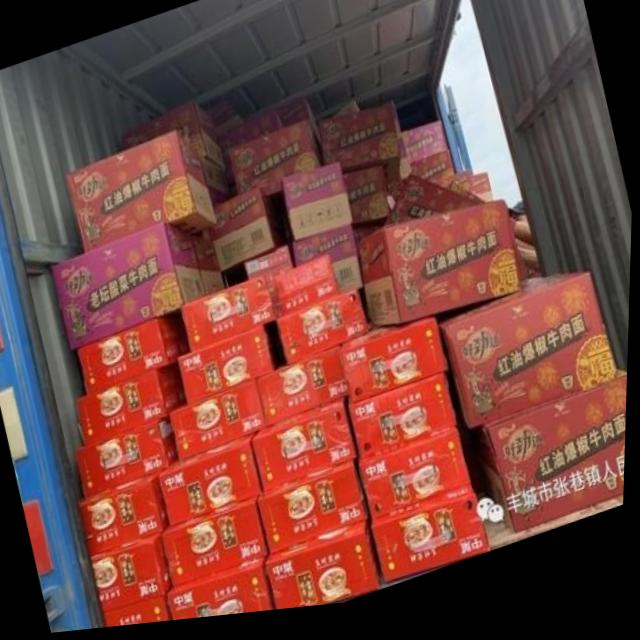box: (439, 283, 622, 438), (463, 382, 630, 541), (358, 210, 524, 333), (51, 225, 206, 352), (67, 132, 219, 254), (374, 495, 494, 591), (362, 436, 474, 529), (270, 527, 383, 616), (262, 467, 371, 559), (254, 404, 359, 497), (161, 436, 265, 529), (166, 500, 270, 591), (350, 382, 459, 468), (344, 324, 450, 408), (78, 368, 188, 446), (78, 420, 182, 500), (78, 320, 186, 397), (181, 329, 275, 410), (172, 384, 267, 463), (83, 475, 171, 557), (122, 105, 227, 173), (260, 355, 351, 432), (230, 125, 322, 201), (183, 282, 278, 354), (279, 297, 372, 370), (93, 535, 175, 615), (171, 564, 279, 624), (319, 108, 408, 178), (282, 169, 354, 246), (387, 181, 484, 233), (293, 231, 365, 301), (275, 261, 340, 323), (215, 219, 286, 275), (213, 192, 282, 245), (206, 105, 247, 187), (106, 589, 177, 630), (246, 251, 295, 309), (400, 129, 448, 187), (343, 174, 392, 230), (229, 115, 284, 151), (195, 241, 228, 300), (278, 104, 321, 149), (410, 161, 455, 198), (206, 164, 231, 205), (451, 191, 495, 212), (385, 174, 403, 221), (513, 243, 530, 290), (473, 181, 495, 209), (454, 180, 476, 199), (336, 106, 359, 123), (510, 230, 520, 241)
